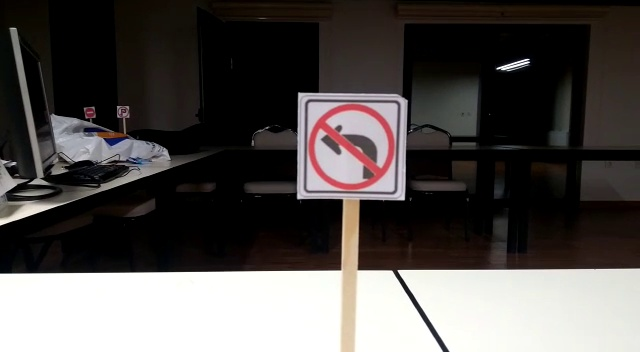sola_donulmez: (299, 98, 403, 197)
